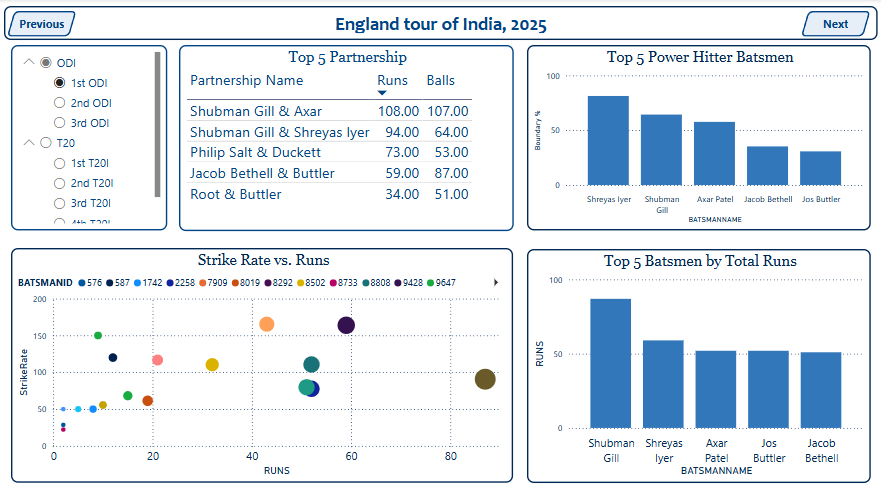

The page's visual inventory and layout, read from the dashboard file:
{"tool":"powerbi","page":{"name":" Batting Performance Dashboard","canvas":[1280,720],"ordinal":2},"visuals":[{"type":"card","fields":{"Values":["SERIES_MAIN.SERIESDESC"]},"box":[0,0,1280,45.7],"z":0},{"type":"slicer","title":"Match ID","fields":{"Values":["MATCHES_MAIN.format","MATCHES_MAIN.MATCHDESCRIPTION"]},"box":[21.7,66.7,225,266.7],"z":5000},{"type":"columnChart","title":"Top 5 Batsmen by Total Runs","fields":{"Category":["BATTINGPERFORMANCE_MAIN.BATSMANNAME"],"Y":["BATTINGPERFORMANCE_MAIN.RUNS"]},"box":[765,360,495,336.7],"z":6000},{"type":"textbox","box":[791.4,3.6,242.1,62.9],"z":7000},{"type":"scatterChart","title":"Strike Rate vs. Runs","fields":{"X":["BATTINGPERFORMANCE_MAIN.RUNS"],"Y":["BATTINGPERFORMANCE_MAIN.AverageStrikeRate"],"Size":["BATTINGPERFORMANCE_MAIN.RUNS"],"Series":["BATTINGPERFORMANCE_MAIN.BATSMANID"],"Category":["TEAM_PLAYERS_MAIN.NAME"]},"box":[21.7,358.3,723.3,338.3],"z":8000},{"type":"columnChart","title":"Top 5 Power Hitter Batsmen ","fields":{"Category":["BATTINGPERFORMANCE_MAIN.BATSMANNAME"],"Y":["BATTINGPERFORMANCE_MAIN.Boundary %"]},"box":[765,66.7,495,266.7],"z":9000},{"type":"tableEx","title":"Top 5 Partnership","fields":{"Values":["PARTNERSHIPS_MAIN.Partnership Name","PARTNERSHIPS_MAIN.TOTALRUNS","PARTNERSHIPS_MAIN.TOTALBALLS"]},"box":[263.3,66.7,481.7,268.3],"z":10000},{"type":"card","fields":{"Values":["SERIES_MAIN.SERIESDESC"]},"box":[11.8,10,1258.2,49.1],"z":11000,"group":"g1"},{"type":"group","id":"g1","title":"Group 1","box":[11.8,10,1258.2,49.1],"z":11000},{"type":"actionButton","box":[1160,16.7,100,36.7],"z":12000,"group":"g1"},{"type":"actionButton","box":[16.6,16.7,100,36.7],"z":14001,"group":"g1"}]}

Visuals, with their boxes in screenshot pixels (x1, y1, x2, y2), scaled from the page's 1280x720 canvas onto the 881x496 screenshot:
card - SERIES_MAIN.SERIESDESC: (0,0,880,31)
"Match ID" slicer: (15,46,170,230)
"Top 5 Batsmen by Total Runs" columnChart: (527,248,867,480)
textbox: (545,2,711,46)
"Strike Rate vs. Runs" scatterChart: (15,247,513,480)
"Top 5 Power Hitter Batsmen " columnChart: (527,46,867,230)
"Top 5 Partnership" tableEx: (181,46,513,231)
card - SERIES_MAIN.SERIESDESC: (8,7,874,41)
"Group 1" group: (8,7,874,41)
actionButton: (798,12,867,37)
actionButton: (11,12,80,37)
